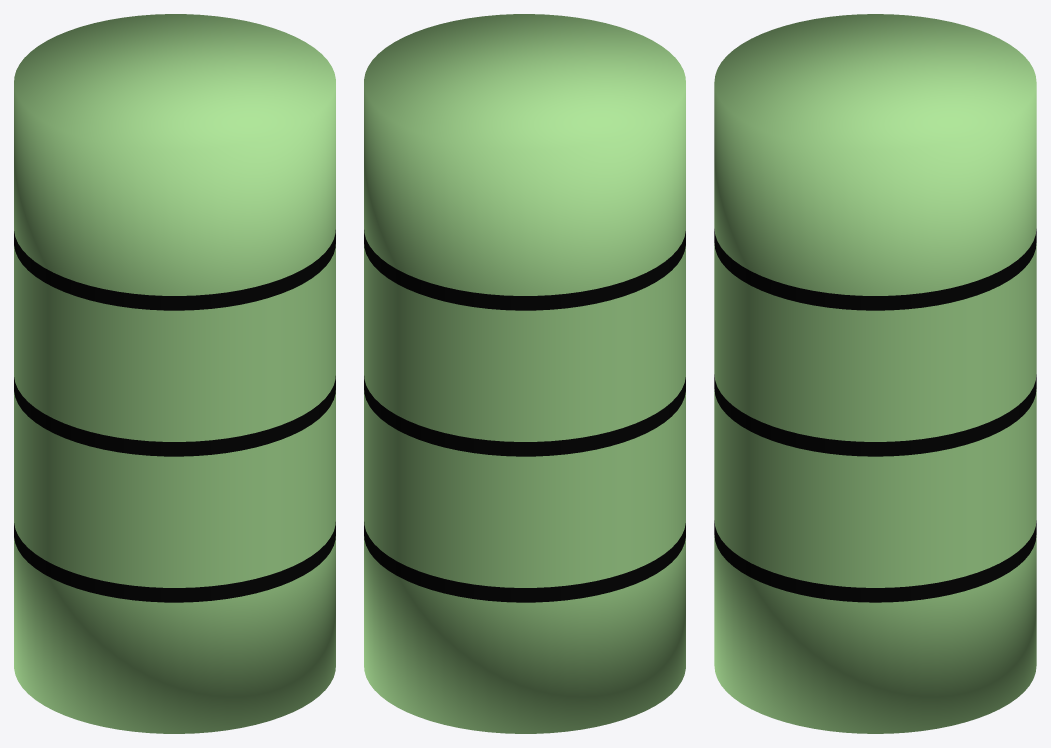
The model's file is Cilindro4.fbx.
3 views of the same model, side by side, from view 1: azimuth 30°, elevation 25°; view 2: azimuth 150°, elevation 25°; view 3: azimuth 270°, elevation 25° (orthographic).
Parts seen in each view (by area): view 1: Cilindro4; view 2: Cilindro4; view 3: Cilindro4.
Boxes of the visible parts, bbox=[...] form: Cilindro4: bbox=[14, 14, 335, 733]; Cilindro4: bbox=[364, 14, 685, 733]; Cilindro4: bbox=[714, 14, 1036, 733].
Size of the model in its own units: 200 by 400 by 200.
